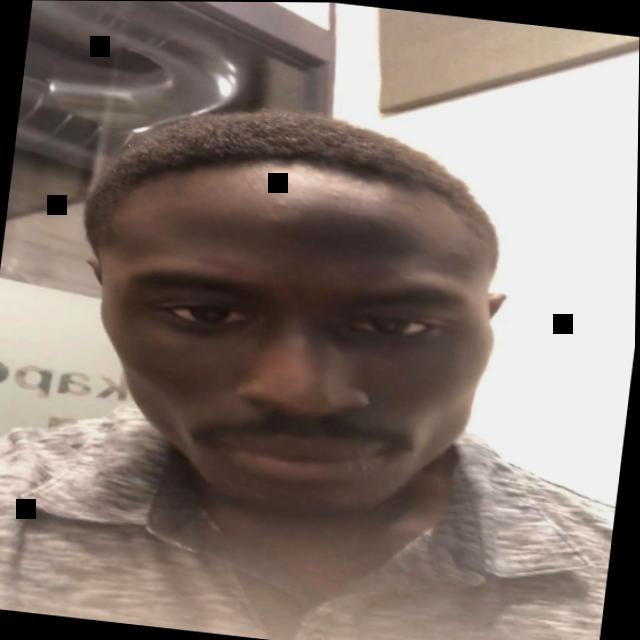NO-Mask: (74, 204, 508, 542)
